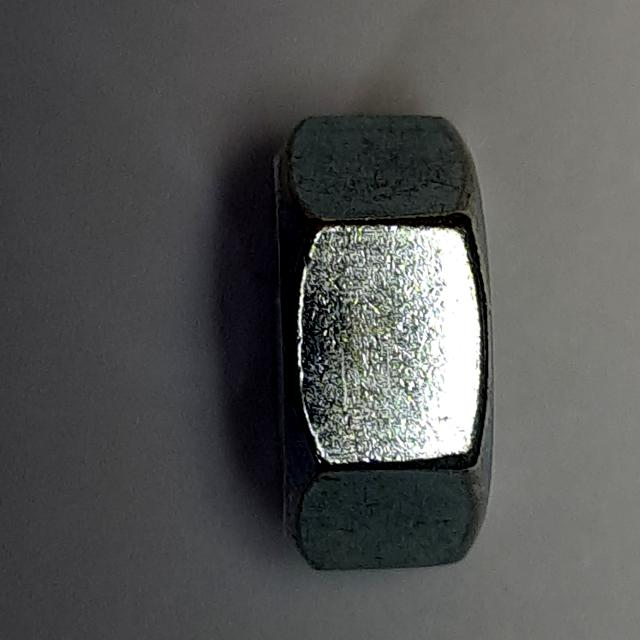Side_Excellent: (252, 102, 509, 593)
